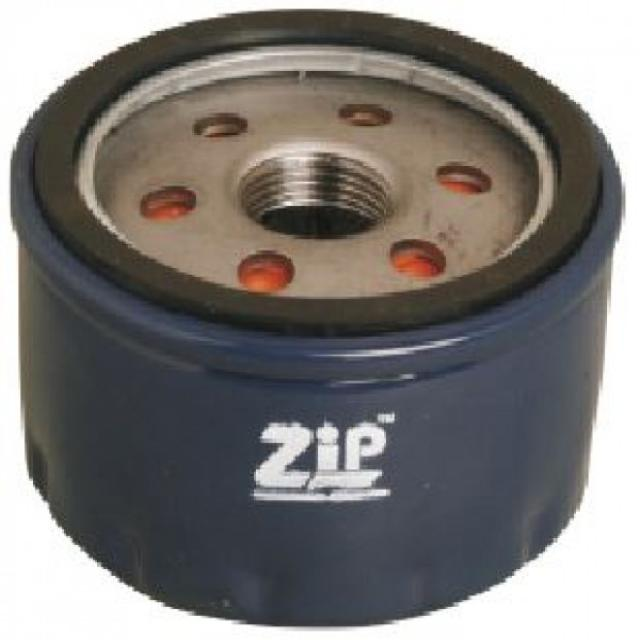oil_filter: (11, 13, 621, 624)
